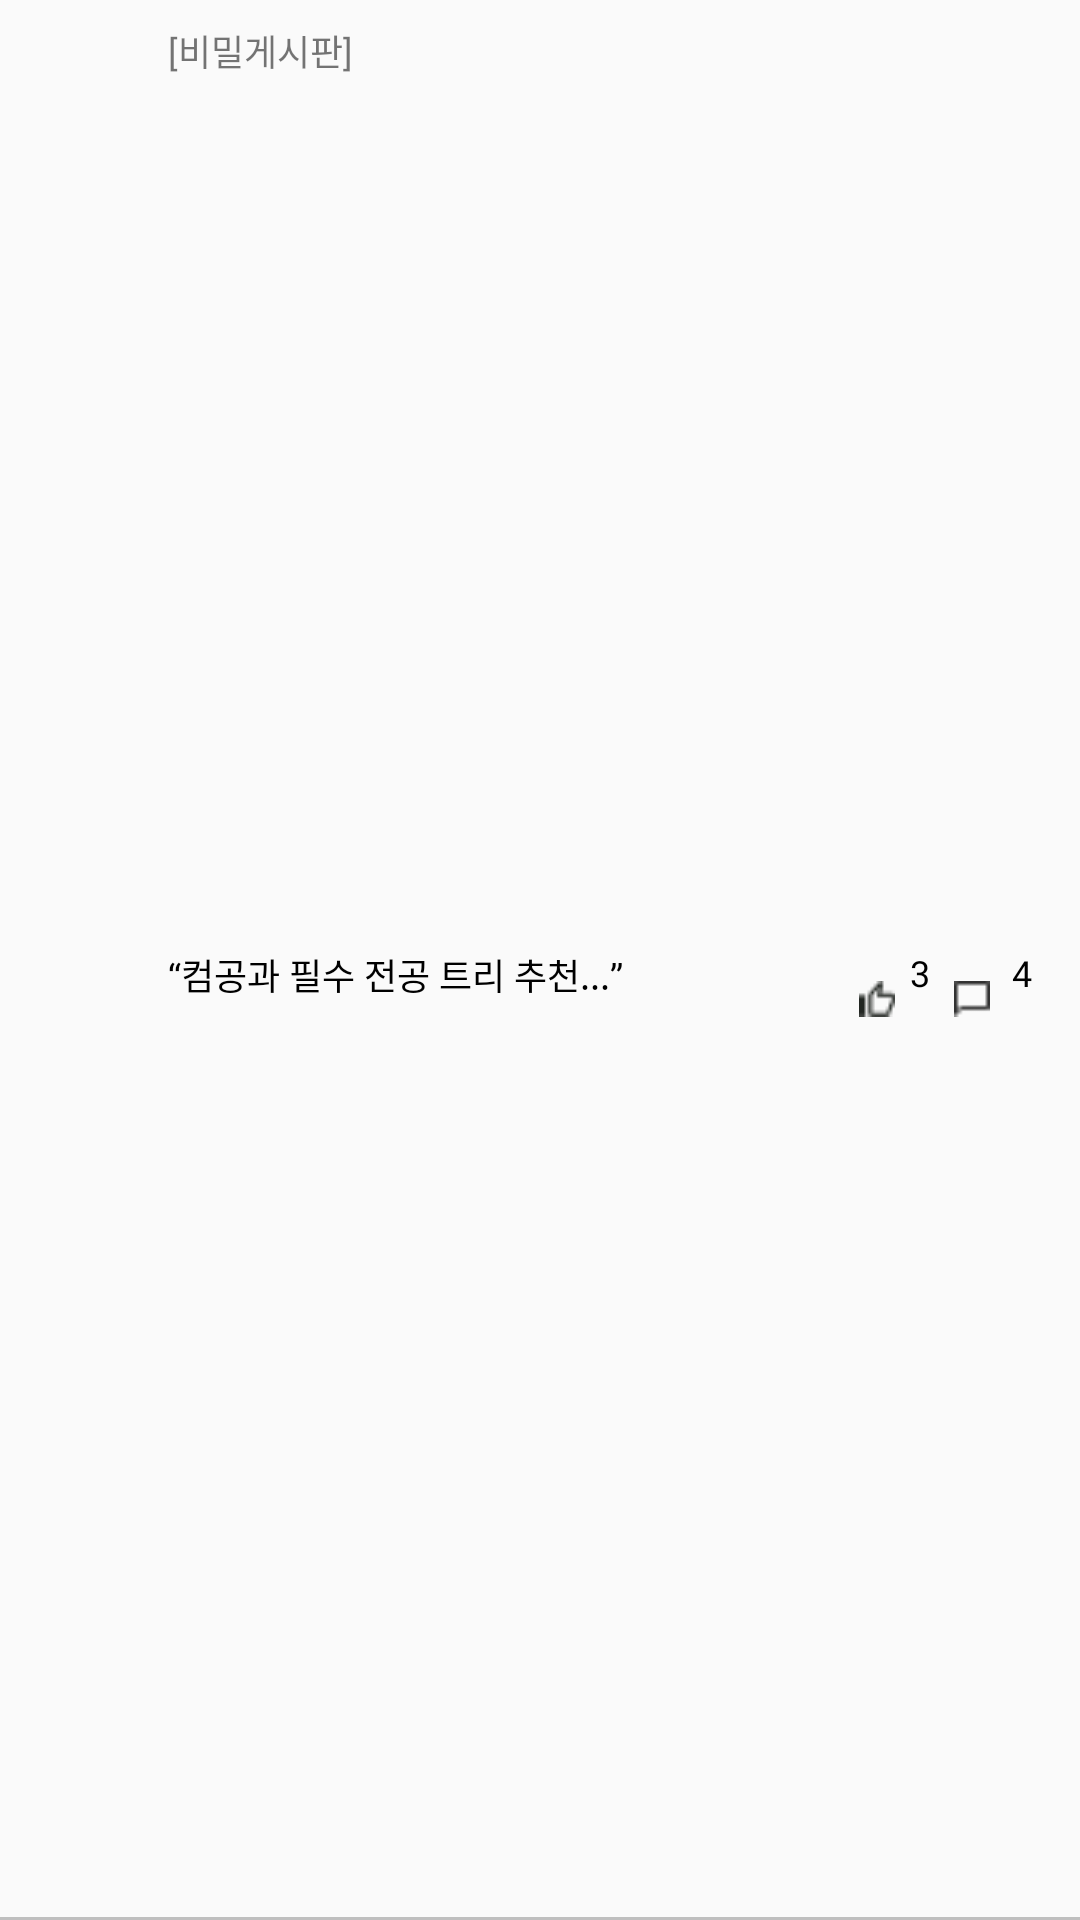

Locate icon controls on the screen. Image size 1080px×1920px, boxes as (x1=x1, y1=y1, x2=x2, y2=y2).
comments: (x1=954, y1=981, x2=990, y2=1017)
recommends: (x1=859, y1=981, x2=895, y2=1017)
